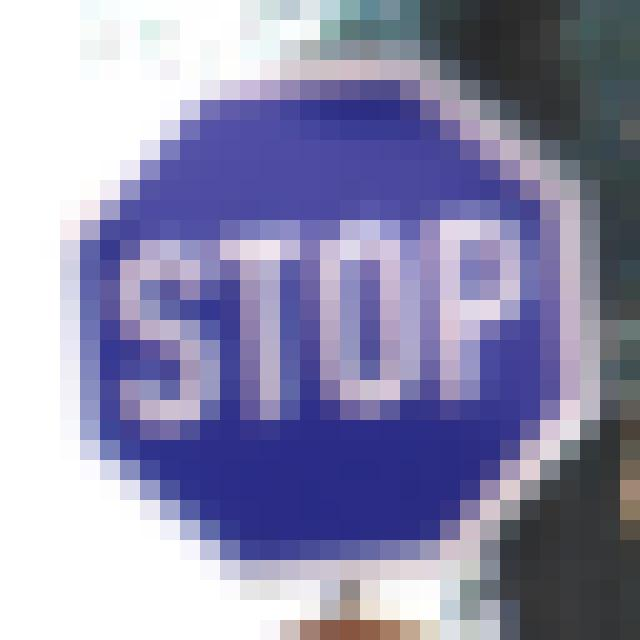STOP: (82, 94, 561, 546)
